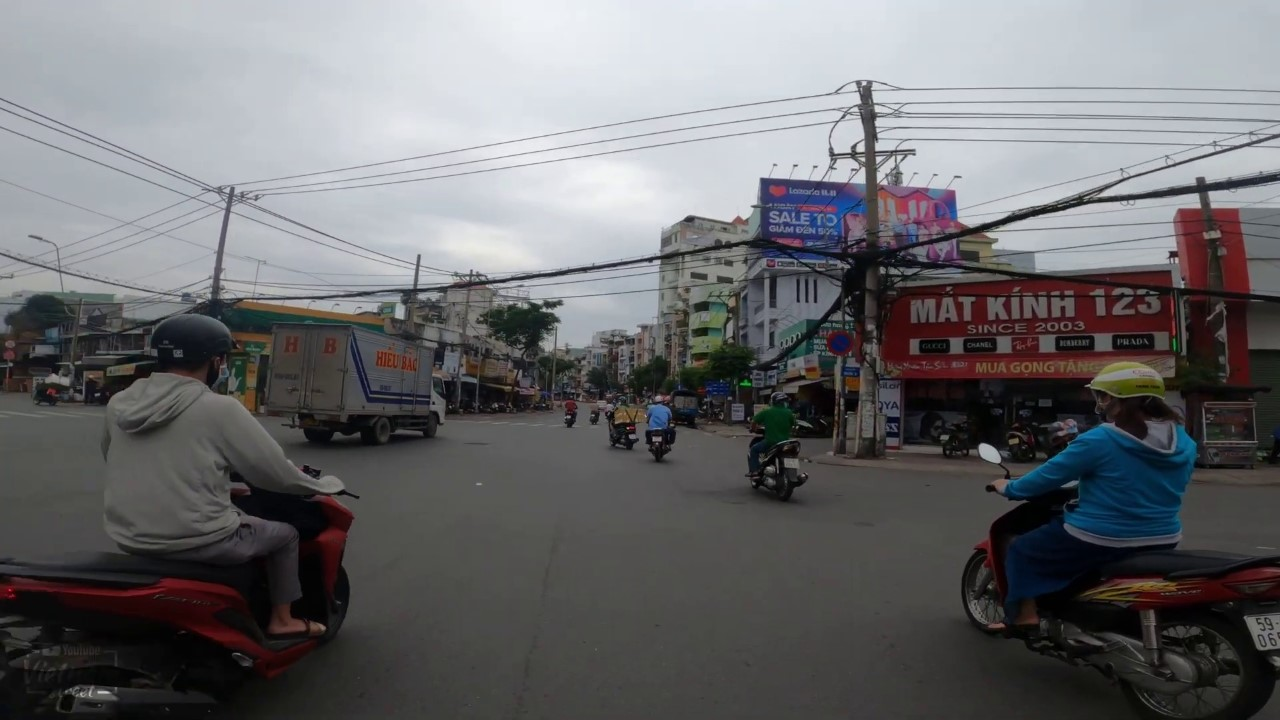cam_do_xe: (826, 330, 854, 355)
